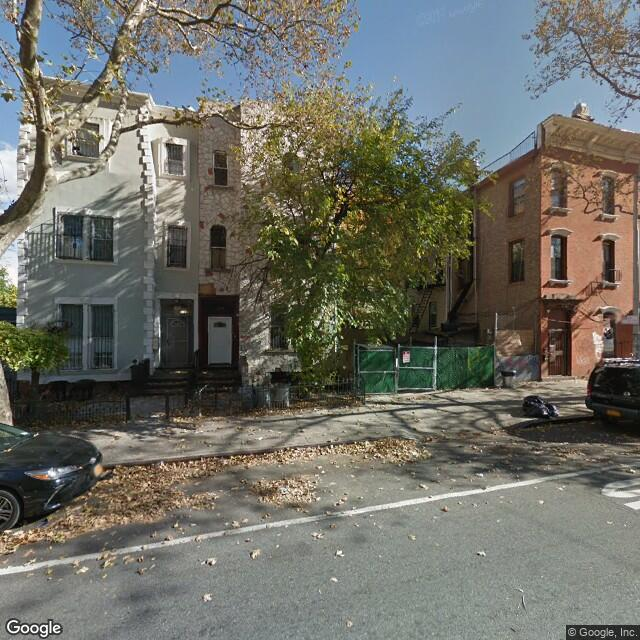litter: (524, 394, 560, 423)
